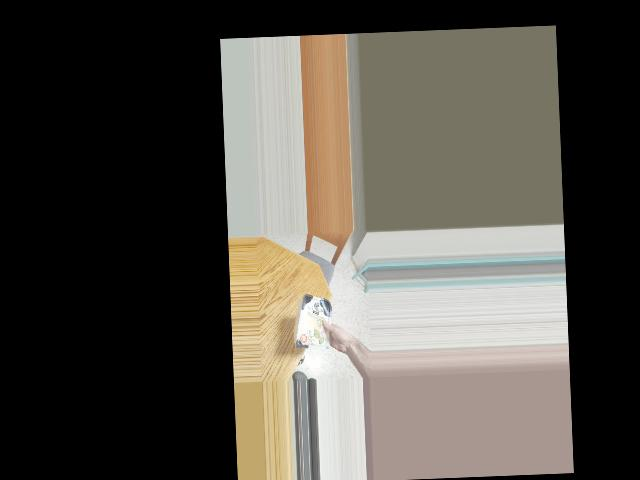cheese: (299, 291, 336, 353)
